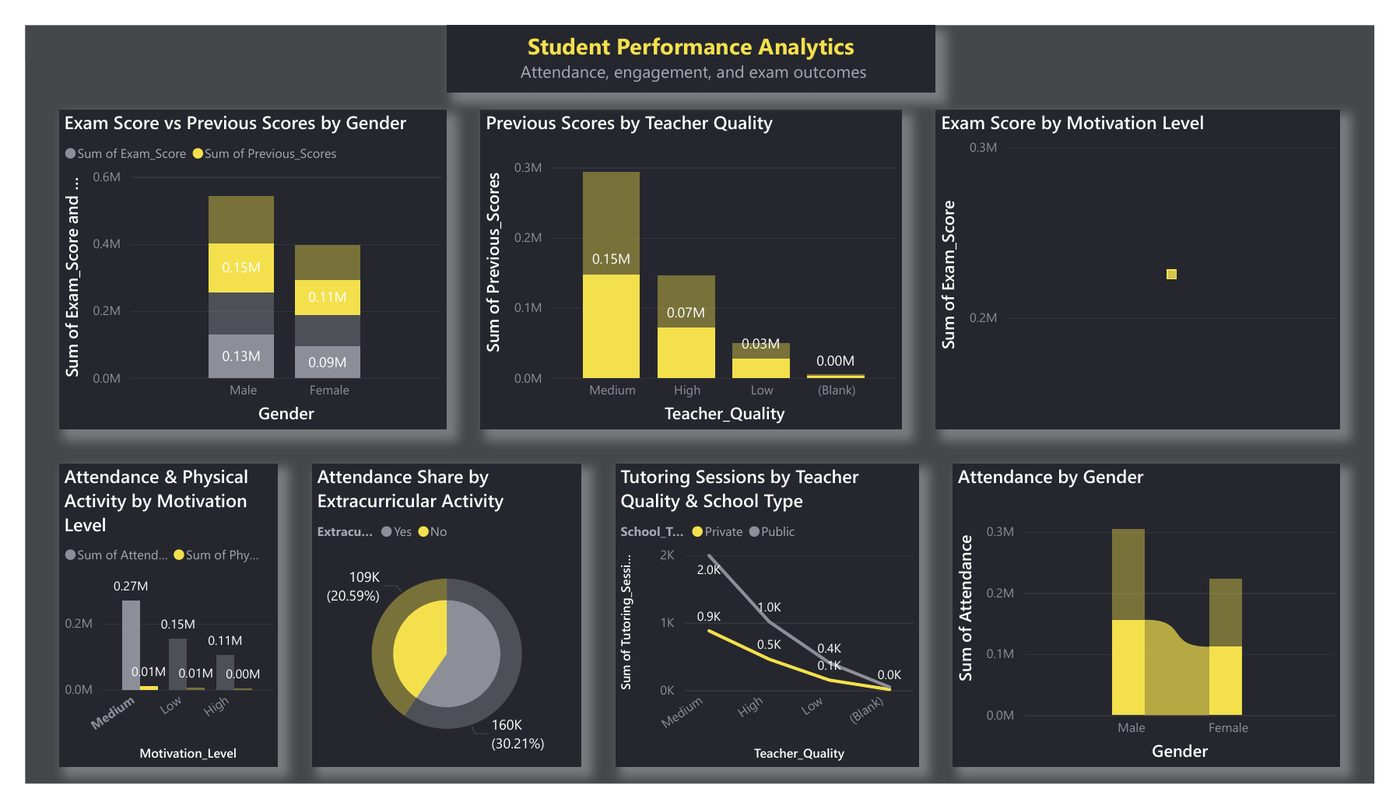

Layout of this report page (visuals, bound fields, positions):
{"tool":"powerbi","page":{"name":"Dashboard","canvas":[1280,720],"ordinal":0},"visuals":[{"type":"columnChart","title":"Exam Score vs Previous Scores by Gender","fields":{"Category":["StudentPerformanceFactors.Gender"],"Y":["Sum(StudentPerformanceFactors.Exam_Score)","Sum(StudentPerformanceFactors.Previous_Scores)"]},"box":[32,80,368,304],"z":0},{"type":"columnChart","title":"\tPrevious Scores by Teacher Quality","fields":{"Category":["StudentPerformanceFactors.Teacher_Quality"],"Y":["Sum(StudentPerformanceFactors.Previous_Scores)"]},"box":[432,80,400,304],"z":1000},{"type":"scatterChart","title":"Exam Score by Motivation Level","fields":{"Y":["Sum(StudentPerformanceFactors.Exam_Score)"],"Category":["StudentPerformanceFactors.Motivation_Level"]},"box":[864,80,384,304],"z":2000},{"type":"clusteredColumnChart","title":"Attendance & Physical Activity by Motivation Level","fields":{"Y":["Sum(StudentPerformanceFactors.Attendance)","Sum(StudentPerformanceFactors.Physical_Activity)"],"Category":["StudentPerformanceFactors.Motivation_Level"]},"box":[32,416,208,288],"z":3000},{"type":"pieChart","title":"Attendance Share by Extracurricular Activity","fields":{"Y":["Sum(StudentPerformanceFactors.Attendance)"],"Category":["StudentPerformanceFactors.Extracurricular_Activities"]},"box":[272,416,256,288],"z":4000},{"type":"lineChart","title":"Tutoring Sessions by Teacher Quality & School Type","fields":{"Series":["StudentPerformanceFactors.School_Type"],"Category":["StudentPerformanceFactors.Teacher_Quality"],"Y":["Sum(StudentPerformanceFactors.Tutoring_Sessions)"]},"box":[560,416,288,288],"z":5000},{"type":"ribbonChart","title":"\tAttendance by Gender","fields":{"Y":["Sum(StudentPerformanceFactors.Attendance)"],"Category":["StudentPerformanceFactors.Gender"]},"box":[880,416,368,288],"z":6000},{"type":"textbox","box":[400,0,464,64],"z":7000}]}

Visuals, with their boxes in screenshot pixels (x1, y1, x2, y2), scaled from the page's 1280x720 canvas onto the 1400x809 screenshot:
"Exam Score vs Previous Scores by Gender" columnChart: (35, 90, 438, 431)
"	Previous Scores by Teacher Quality" columnChart: (472, 90, 910, 431)
"Exam Score by Motivation Level" scatterChart: (945, 90, 1365, 431)
"Attendance & Physical Activity by Motivation Level" clusteredColumnChart: (35, 467, 262, 791)
"Attendance Share by Extracurricular Activity" pieChart: (298, 467, 578, 791)
"Tutoring Sessions by Teacher Quality & School Type" lineChart: (612, 467, 928, 791)
"	Attendance by Gender" ribbonChart: (962, 467, 1365, 791)
textbox: (438, 0, 945, 72)
